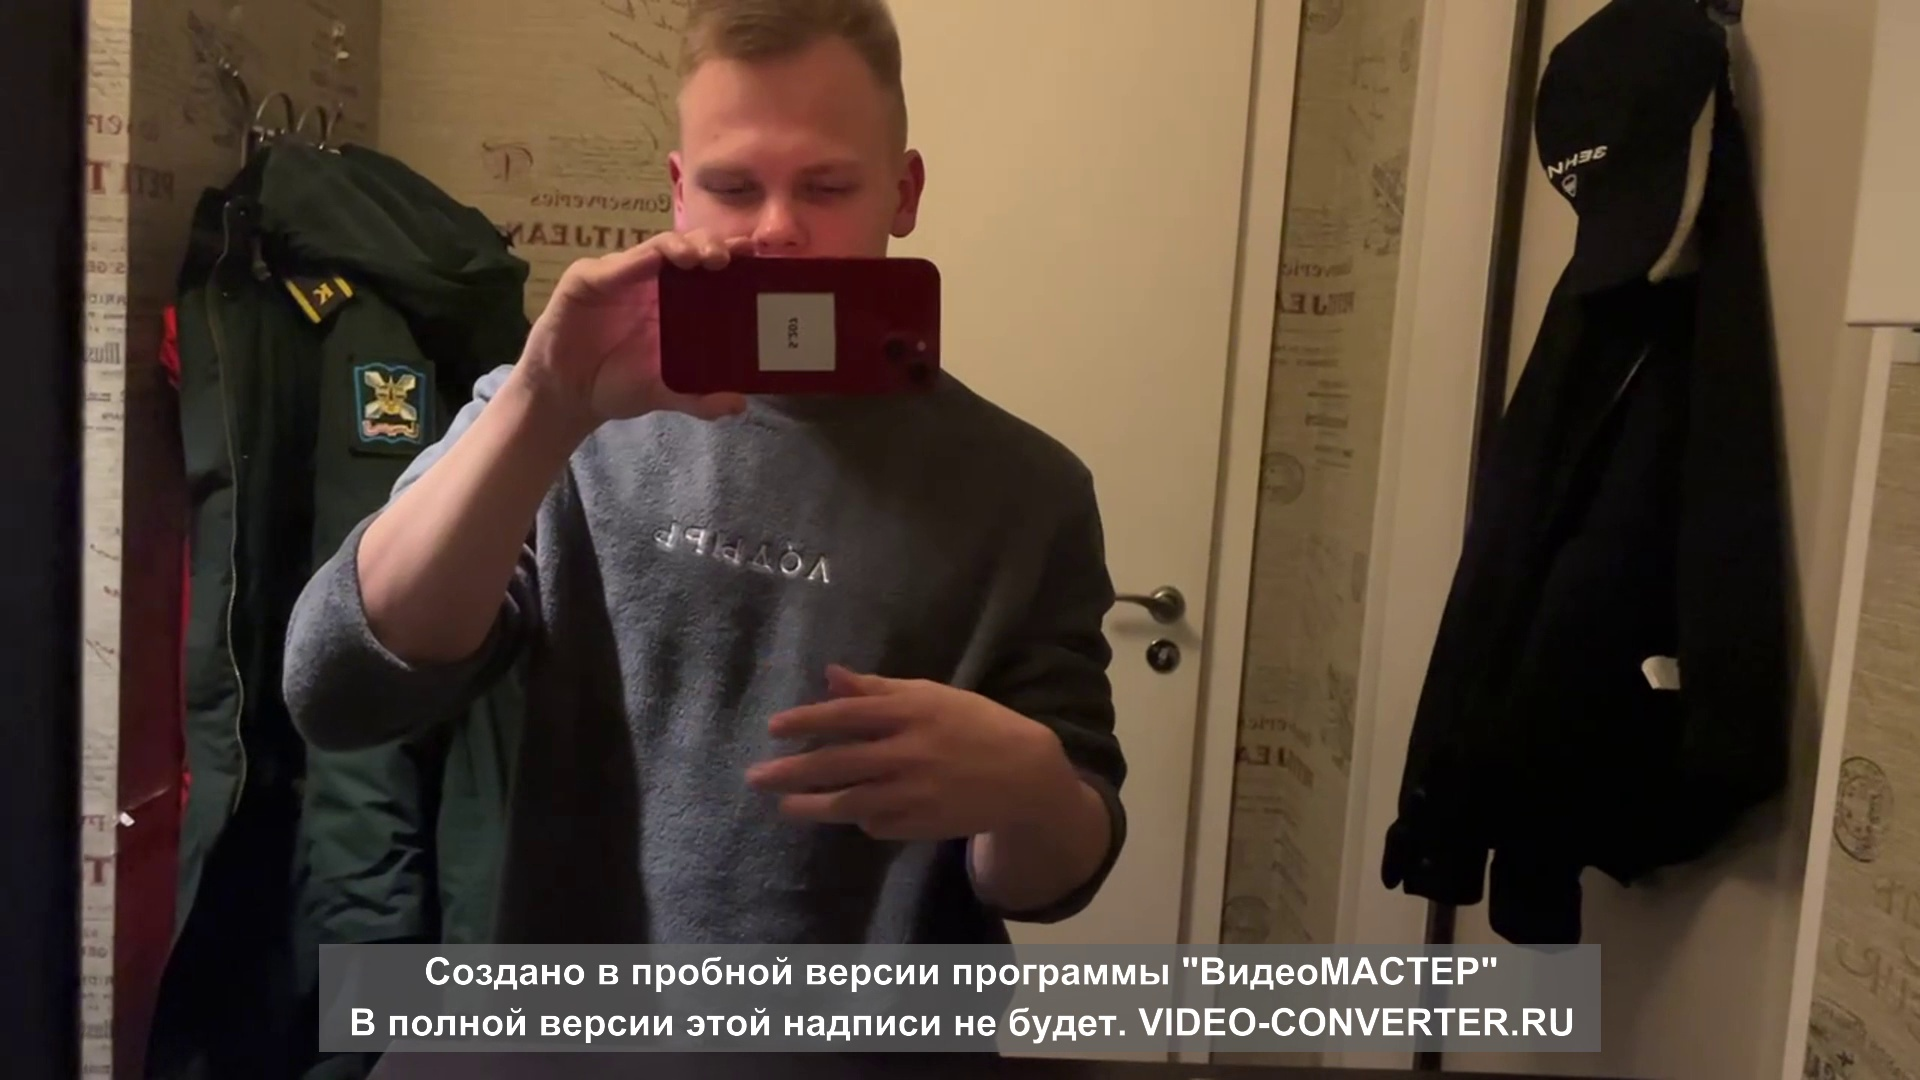Кисть: (748, 662, 1034, 843)
